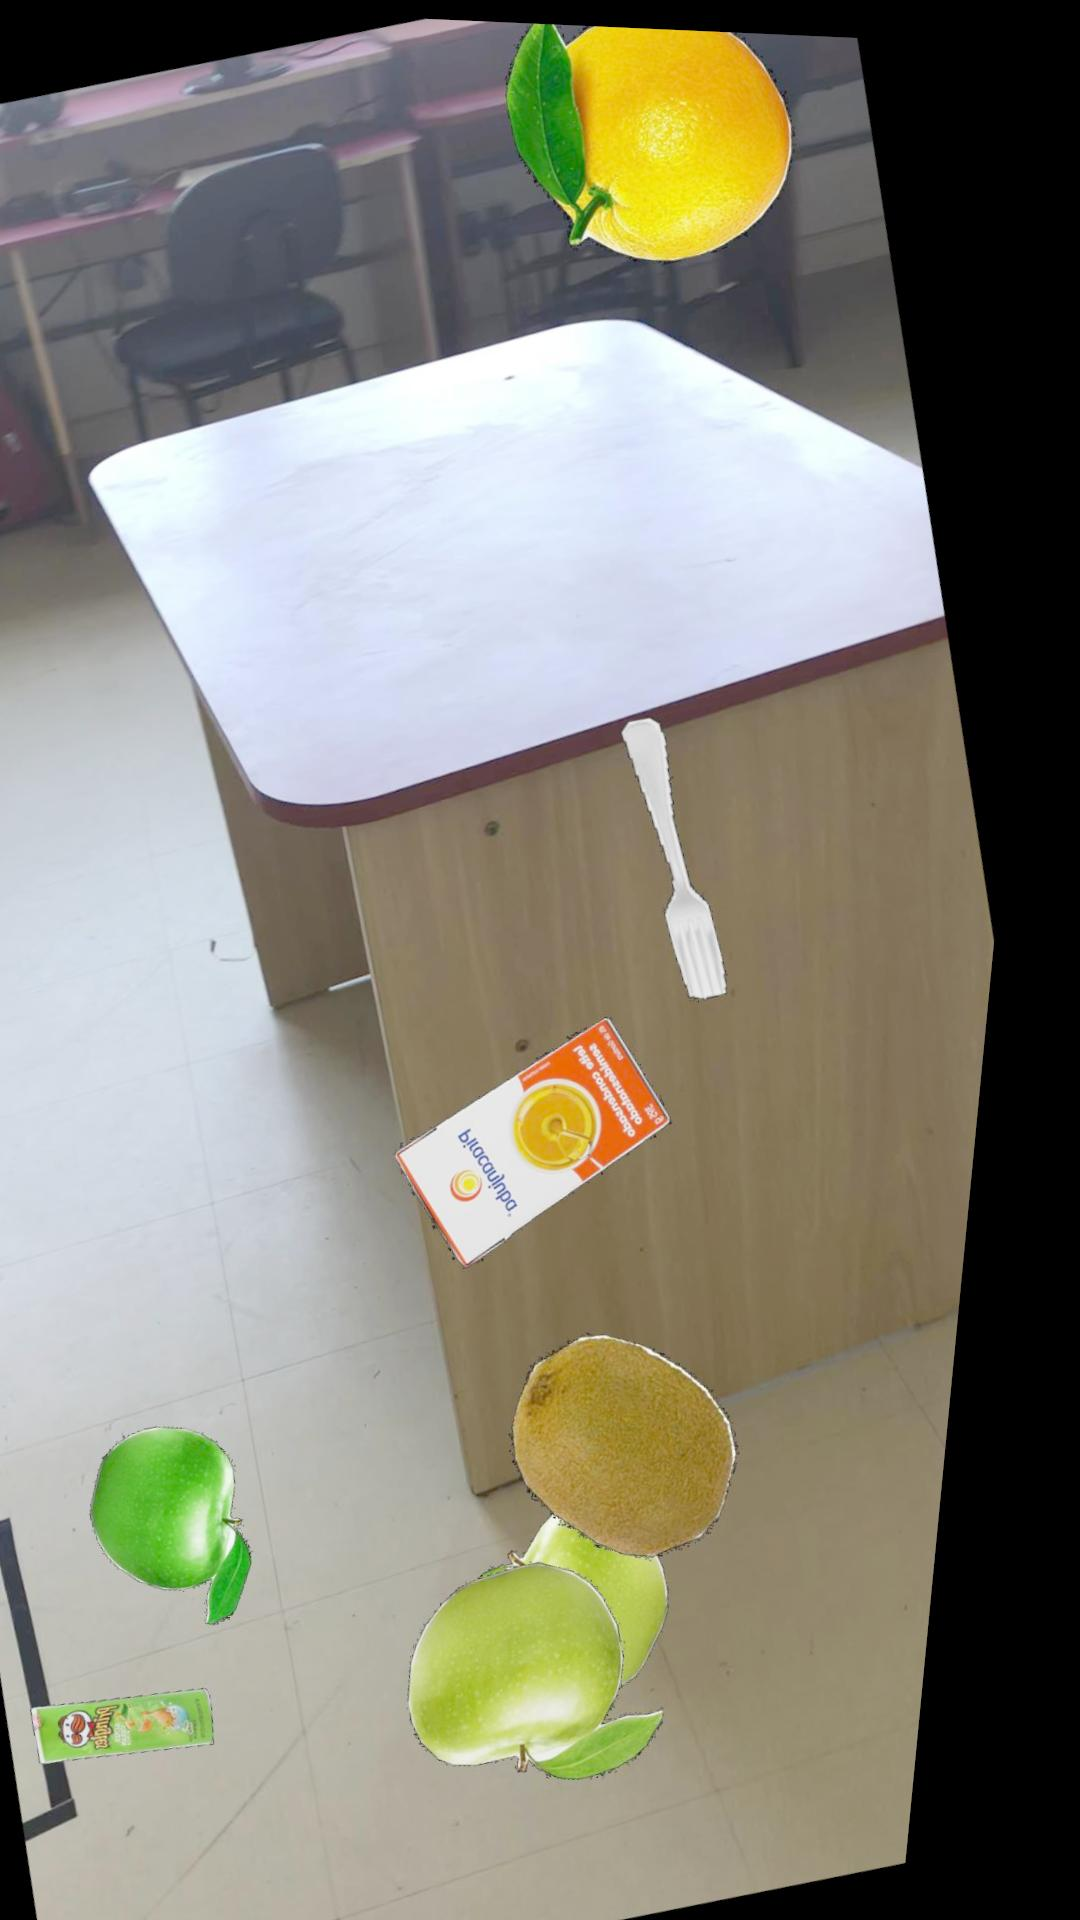fork: (632, 708, 744, 990)
green apple: (439, 1553, 695, 1771), (506, 1506, 698, 1676), (117, 1422, 281, 1619)
kiwi: (537, 1325, 765, 1548)
orange: (504, 18, 794, 255)
pringles: (62, 1683, 247, 1760)
